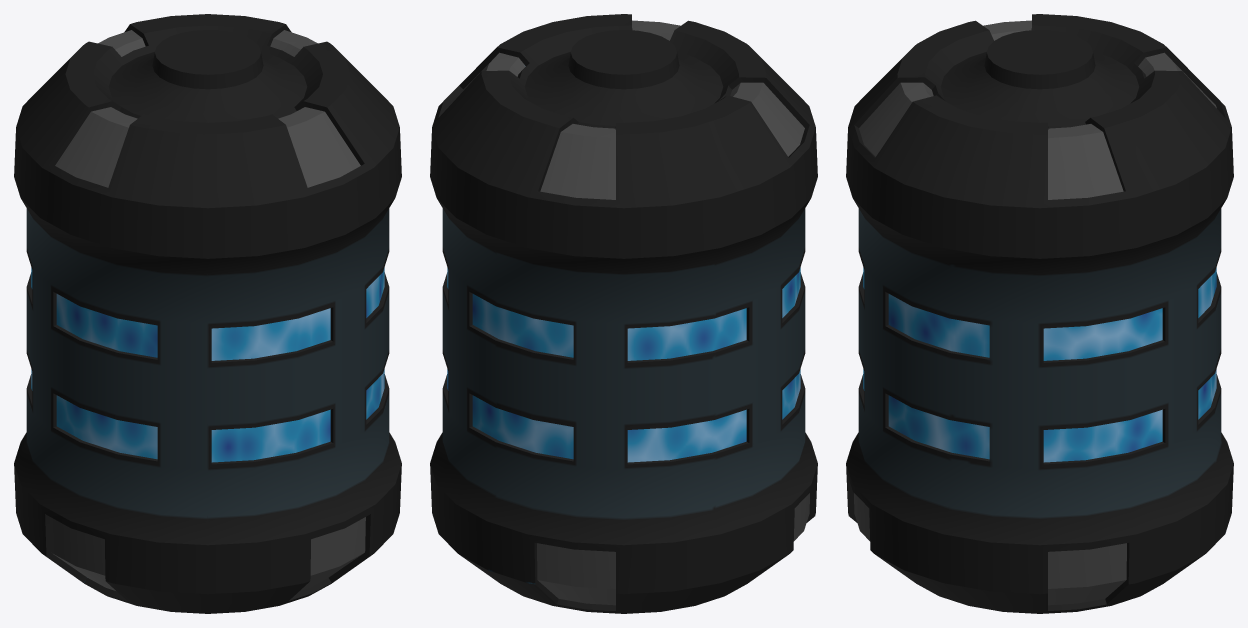
Rendered from RS_barrel.fbx.
The picture shows the model from 3 angles, left to right: view 1: azimuth 30°, elevation 25°; view 2: azimuth 150°, elevation 25°; view 3: azimuth 270°, elevation 25°; orthographic projection.
Parts seen in each view (by area): view 1: RS_barrel; view 2: RS_barrel; view 3: RS_barrel.
Part boxes in pixels (x1,y1,x2,y2): RS_barrel: (14, 14, 401, 613); RS_barrel: (430, 14, 817, 613); RS_barrel: (846, 14, 1233, 613).
Bounding box in the file's own units: 103 × 146 × 103.
